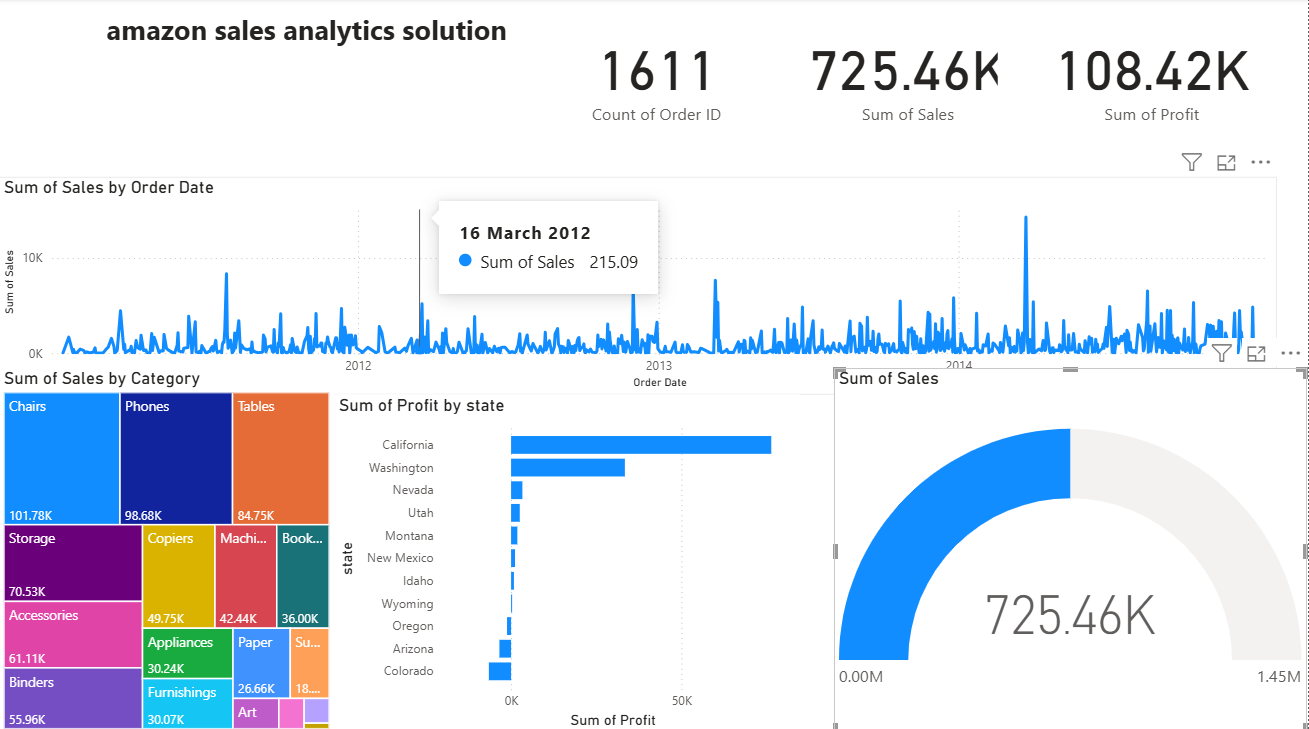

Layout of this report page (visuals, bound fields, positions):
{"tool":"powerbi","page":{"name":"Page 1","canvas":[1280,720],"ordinal":0},"visuals":[{"type":"card","fields":{"Values":["Sum(Walmart.Sales)"]},"box":[749.7,0,279.7,149.2],"z":0},{"type":"card","fields":{"Values":["Count(Walmart.Order ID)"]},"box":[503.5,0,279.7,149.2],"z":1},{"type":"card","fields":{"Values":["Sum(Walmart.Profit)"]},"box":[977.2,0,302.1,149.2],"z":2},{"type":"lineChart","fields":{"Y":["Sum(Walmart.Sales)"],"Category":["Walmart.Order Date"]},"box":[0,175.3,1249.5,212.6],"z":3},{"type":"treemap","fields":{"Group":["Walmart.Category"],"Values":["Sum(Walmart.Sales)"]},"box":[0,361.8,328.2,358.1],"z":4},{"type":"gauge","fields":{"Y":["Sum(Walmart.Sales)"]},"box":[816.8,361.8,462.5,358.1],"z":5},{"type":"barChart","fields":{"Category":["Walmart.state"],"Y":["Sum(Walmart.Profit)"]},"box":[328.2,387.9,455,331.9],"z":6},{"type":"textbox","box":[100.2,0,488.5,104.3],"z":7}]}

Visuals, with their boxes in screenshot pixels (x1, y1, x2, y2), scaled from the page's 1280x720 canvas onto the 1309x729 screenshot:
card - Sum(Walmart.Sales): box=[767, 0, 1053, 151]
card - Count(Walmart.Order ID): box=[515, 0, 801, 151]
card - Sum(Walmart.Profit): box=[999, 0, 1308, 151]
lineChart - Sum(Walmart.Sales) x Walmart.Order Date: box=[0, 177, 1278, 393]
treemap - Walmart.Category x Sum(Walmart.Sales): box=[0, 366, 336, 728]
gauge - Sum(Walmart.Sales): box=[835, 366, 1308, 728]
barChart - Walmart.state x Sum(Walmart.Profit): box=[336, 393, 801, 728]
textbox: box=[102, 0, 602, 106]
